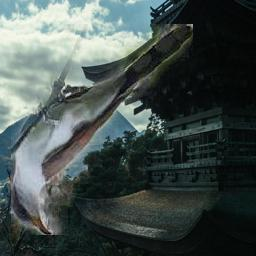Cuckoo: (11, 25, 193, 236)
